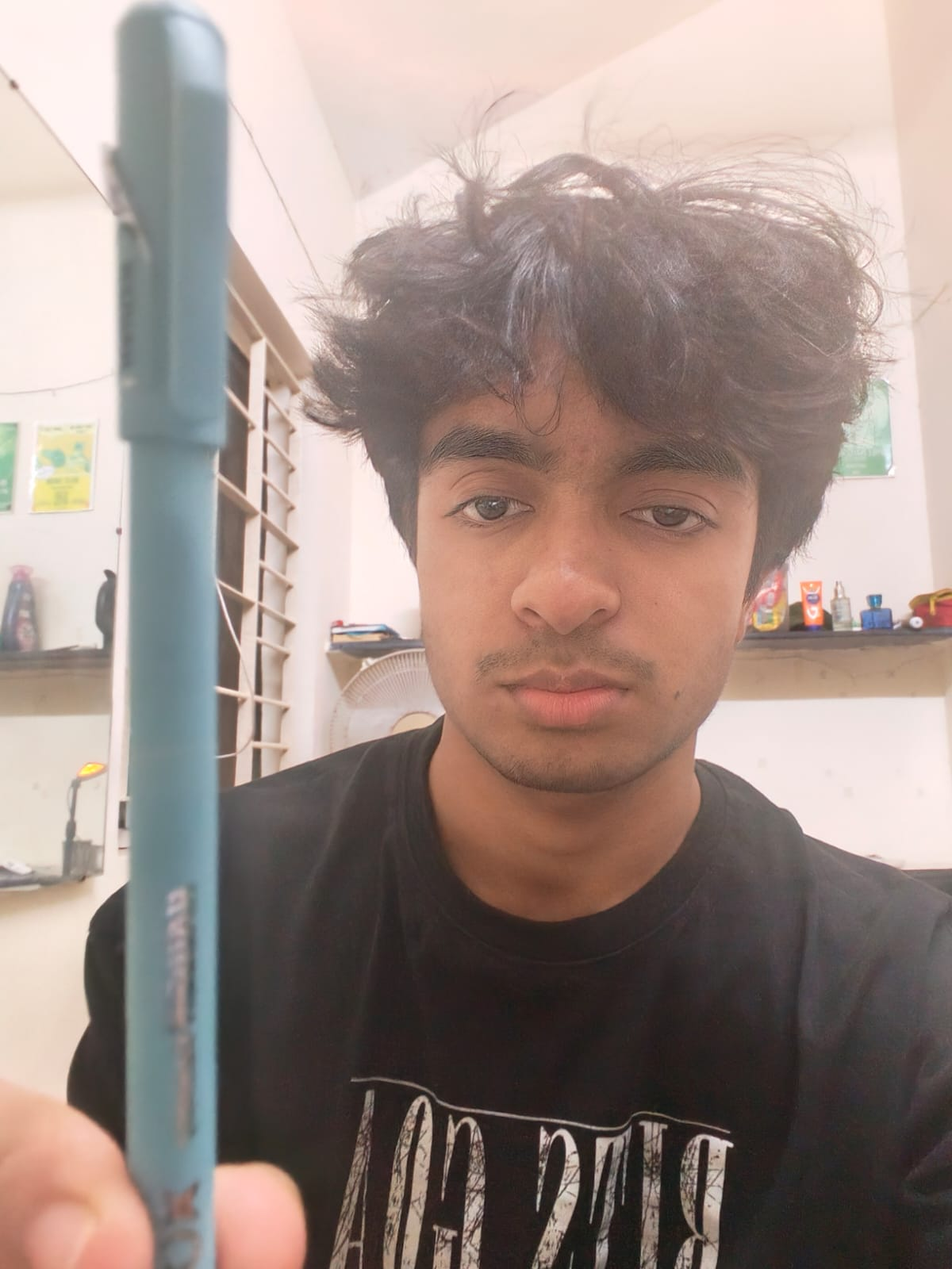pen: (40, 3, 283, 1268)
